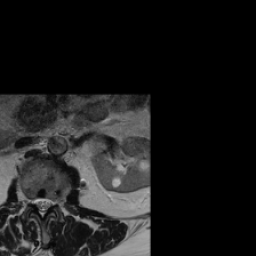CCS_normal: (39, 191, 45, 220)
LFS_normal: (51, 193, 58, 210)
LLS_normal: (45, 193, 52, 213)
RFS_stenosis: (27, 191, 35, 209)
RLS_normal: (34, 193, 39, 211)
